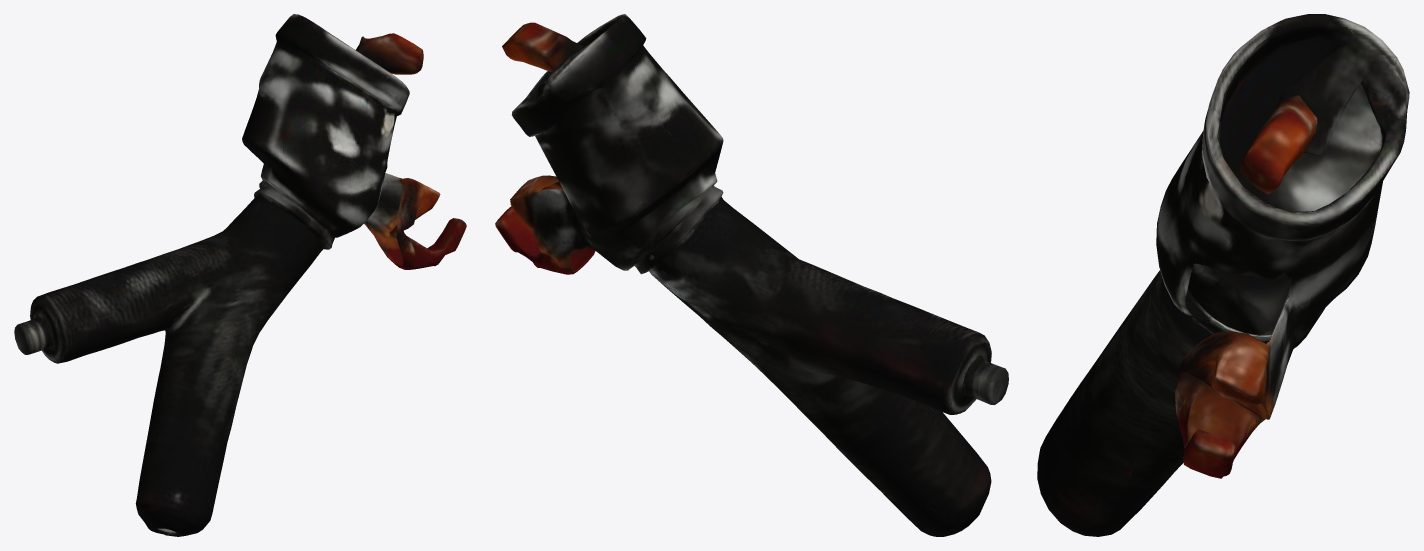
File: kn_flamer_nozzle.glb
The picture shows the model from 3 angles, left to right: view 1: azimuth 30°, elevation 25°; view 2: azimuth 150°, elevation 25°; view 3: azimuth 270°, elevation 25°; orthographic projection. The views are drawn at different scales.
Visible parts, largest first — view 1: geometry_0; view 2: geometry_0; view 3: geometry_0.
Boxes of the visible parts, left/top/right/bottom form: geometry_0: left=14, top=14, right=466, bottom=536; geometry_0: left=495, top=14, right=1008, bottom=536; geometry_0: left=1037, top=14, right=1409, bottom=536.
Bounding box in the file's own units: 0.912 × 0.8532 × 0.4287.
Materials: 1 (1 with a texture image).
